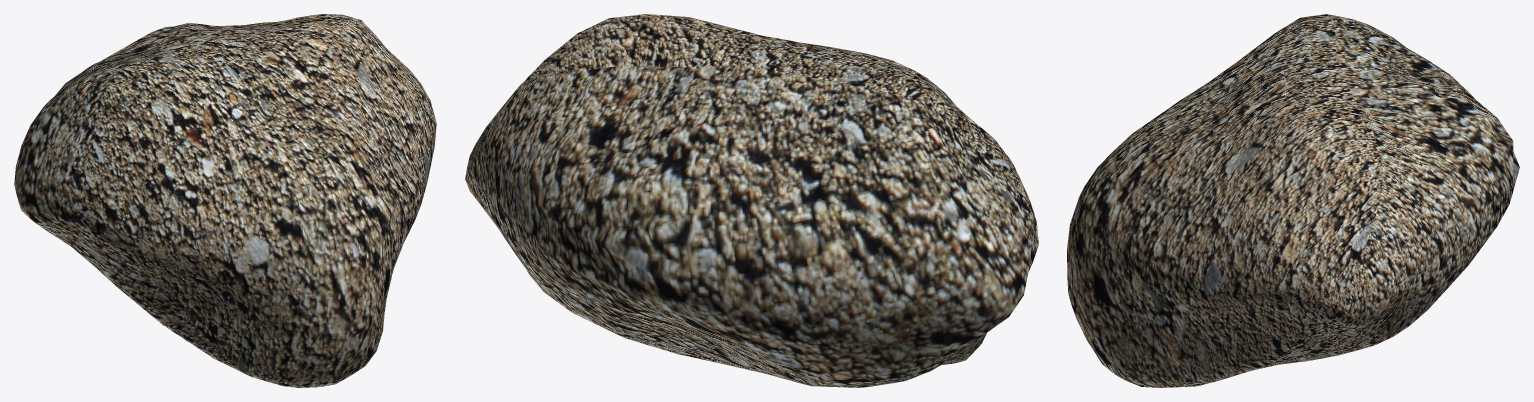
File: asteroidgg.fbx
The picture shows the model from 3 angles, left to right: view 1: azimuth 30°, elevation 25°; view 2: azimuth 150°, elevation 25°; view 3: azimuth 270°, elevation 25°; orthographic projection. The views are drawn at different scales.
Visible parts, largest first — view 1: asteroidgg; view 2: asteroidgg; view 3: asteroidgg.
Boxes of the visible parts, x1=… form: asteroidgg: x1=14, y1=14, x2=436, y2=387; asteroidgg: x1=465, y1=14, x2=1038, y2=387; asteroidgg: x1=1067, y1=14, x2=1519, y2=387.
Bounding box in the file's own units: 416 × 280 × 379.
